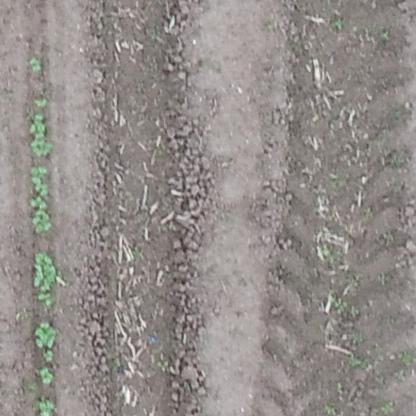vc: (33, 250, 59, 309), (29, 113, 52, 156), (30, 165, 51, 196), (32, 321, 57, 347), (27, 210, 54, 234), (37, 366, 56, 385), (29, 54, 45, 74), (35, 399, 55, 415), (31, 96, 51, 107), (29, 197, 49, 208), (42, 350, 56, 362)
